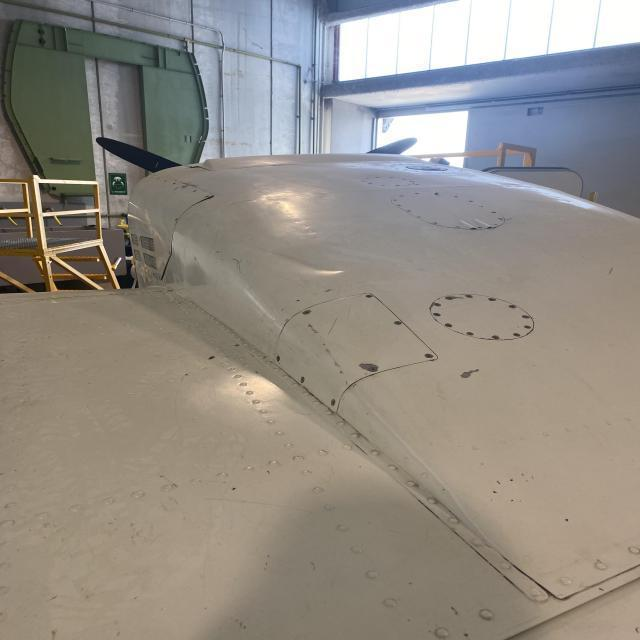Dent: (255, 240, 357, 282)
